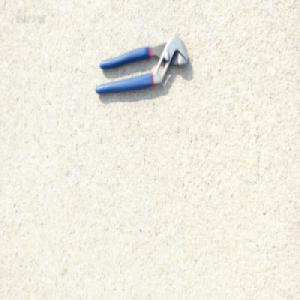Pliers: (93, 35, 190, 96)
